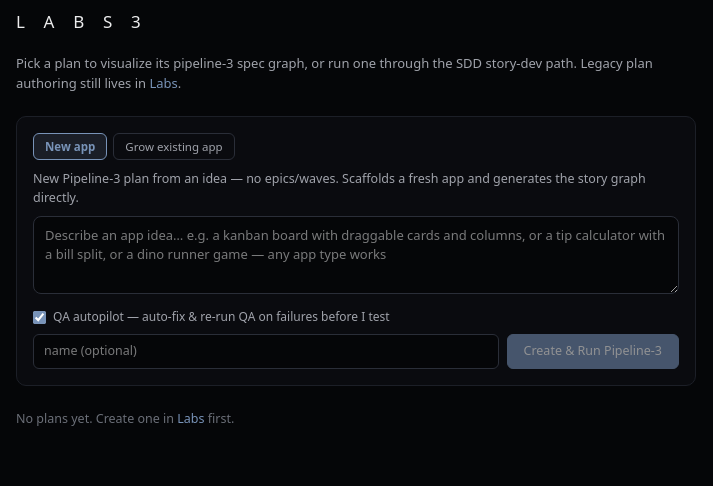
Test case: Labs3Launcher — Grow existing app mode › disables submit in grow mode until an app is chosen
Click the button "Grow existing app" at (174, 147), box left=113, top=133, right=235, bottom=160
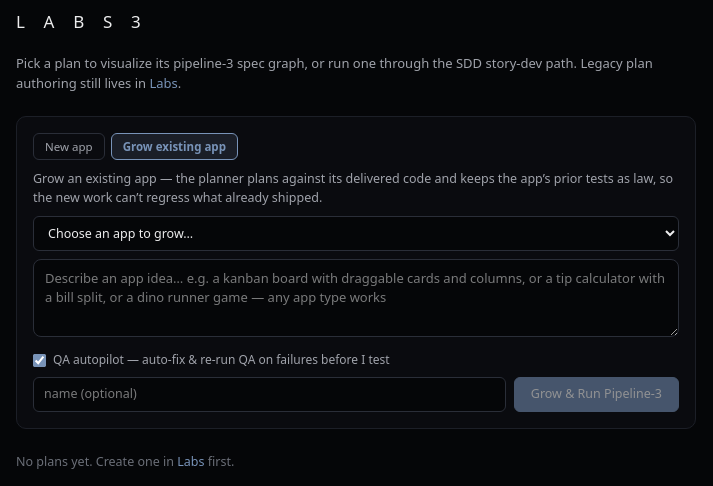
Replace the text in the text box with placeholder "Describe an app idea" with "add a settings screen" at (356, 298), box left=33, top=259, right=679, bottom=337
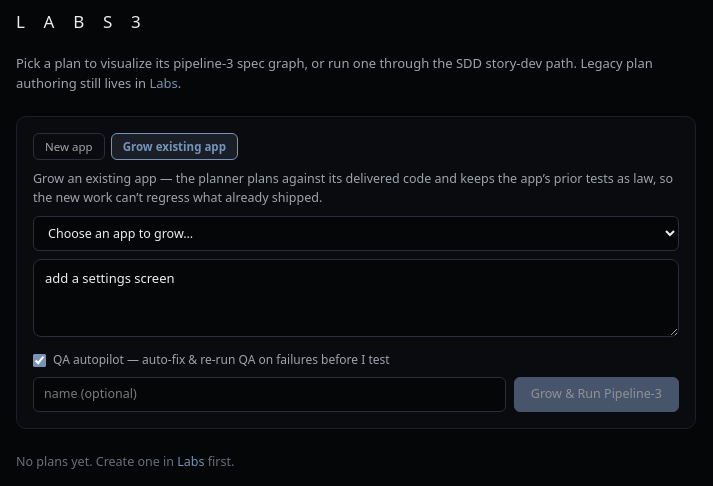
Check: the button "Grow & Run Pipeline-3" is disabled, box left=514, top=377, right=679, bottom=412
Select "Snake (snake-4)" in the dropdown named "App to grow" at (356, 233), box left=33, top=216, right=679, bottom=251
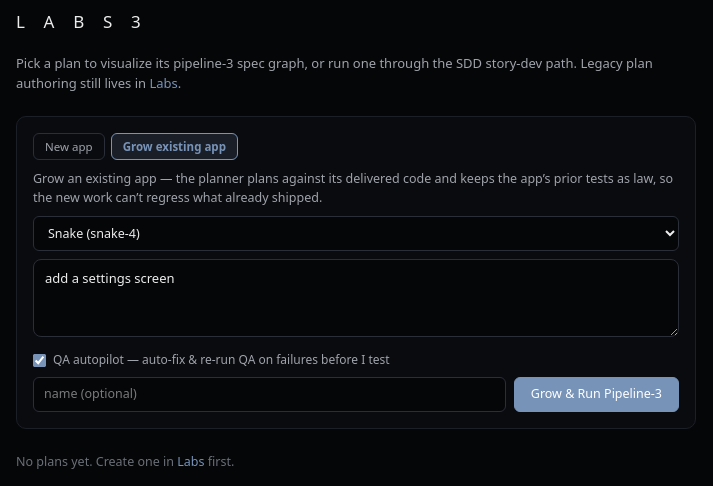
Check: the button "Grow & Run Pipeline-3" is enabled, box left=514, top=377, right=679, bottom=412
